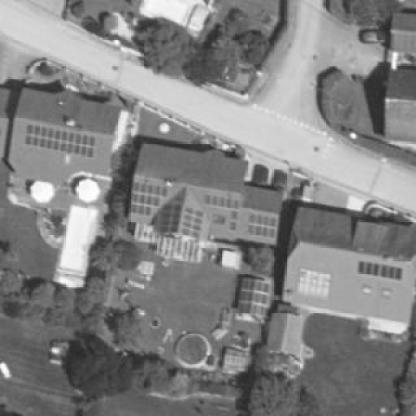solar-pv-panel: (25, 123, 96, 158), (161, 204, 204, 239), (205, 196, 240, 232), (237, 279, 270, 316), (130, 183, 166, 216), (298, 269, 333, 297), (356, 261, 401, 279), (248, 214, 277, 239)
